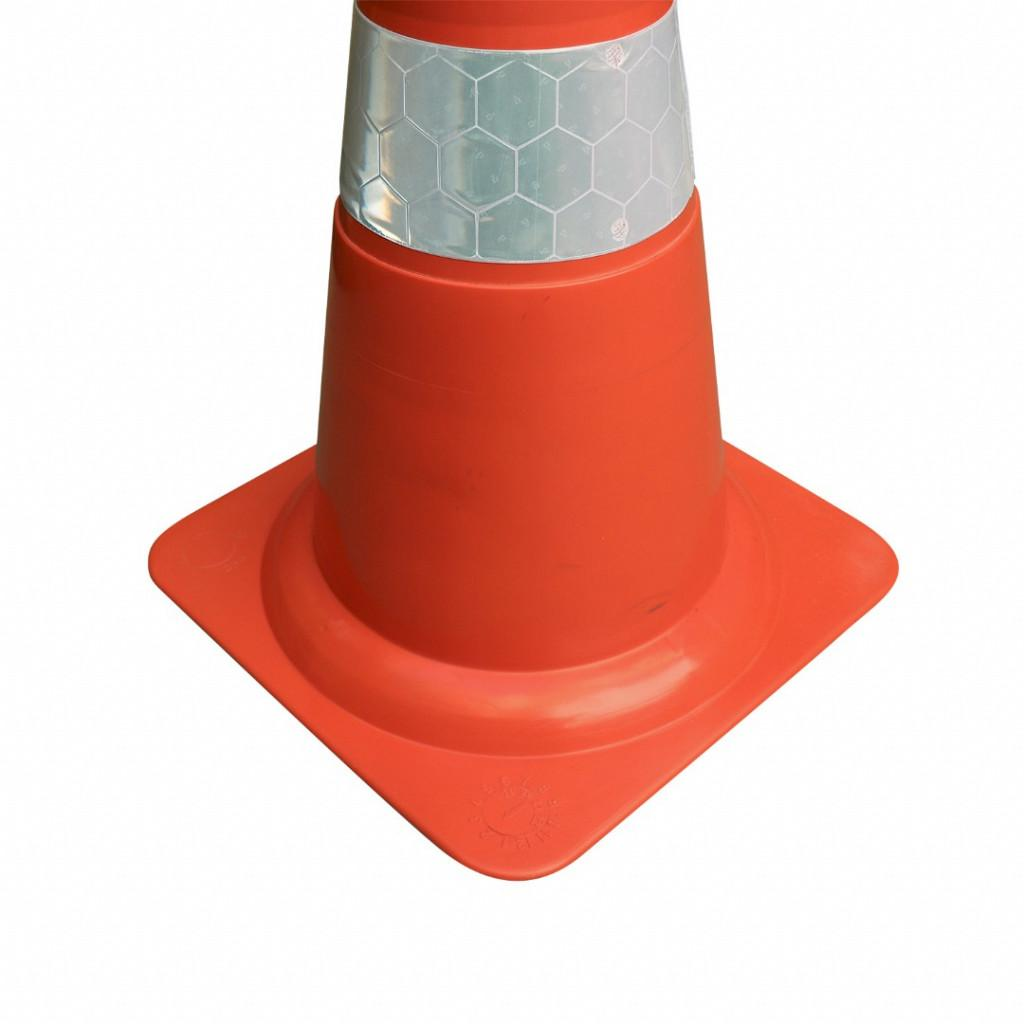traffic_cone: (146, 0, 901, 881)
